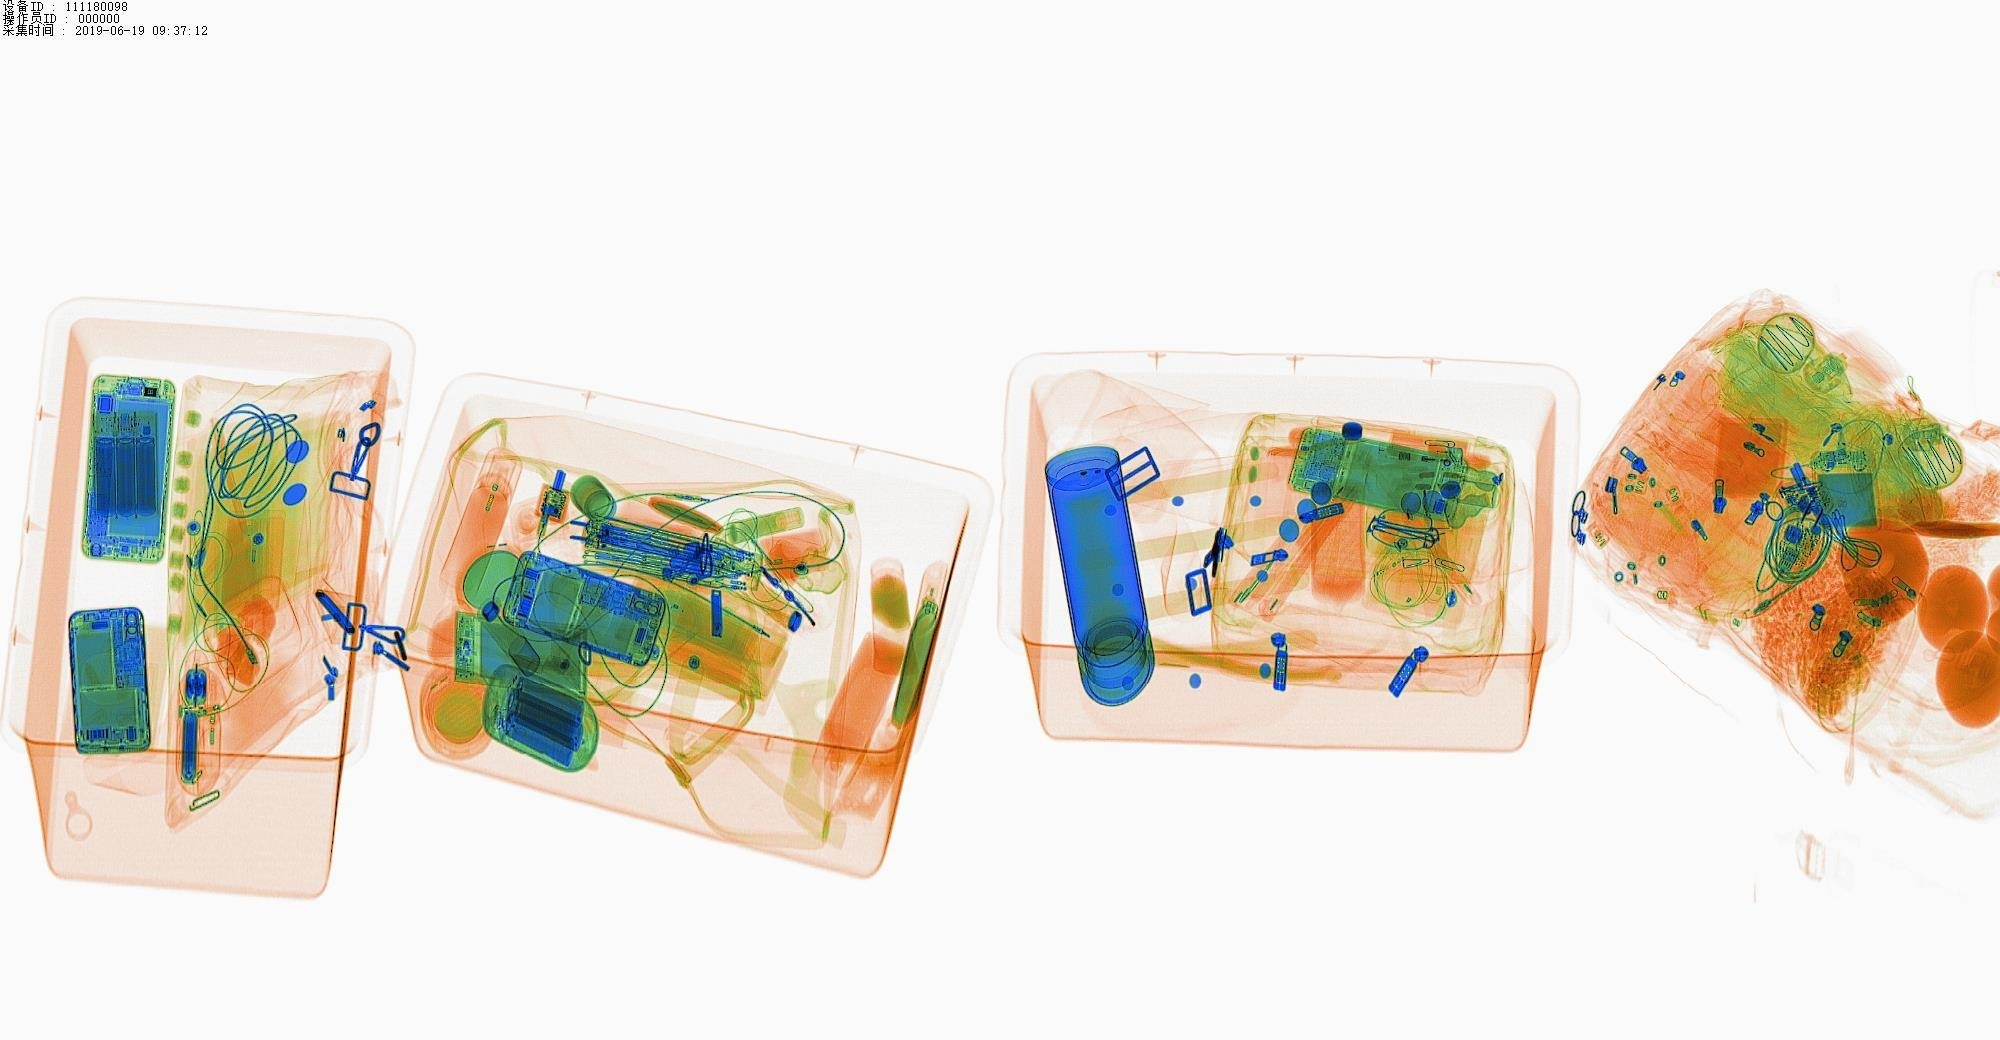NonmetallicFire: (1380, 437, 1487, 482)
